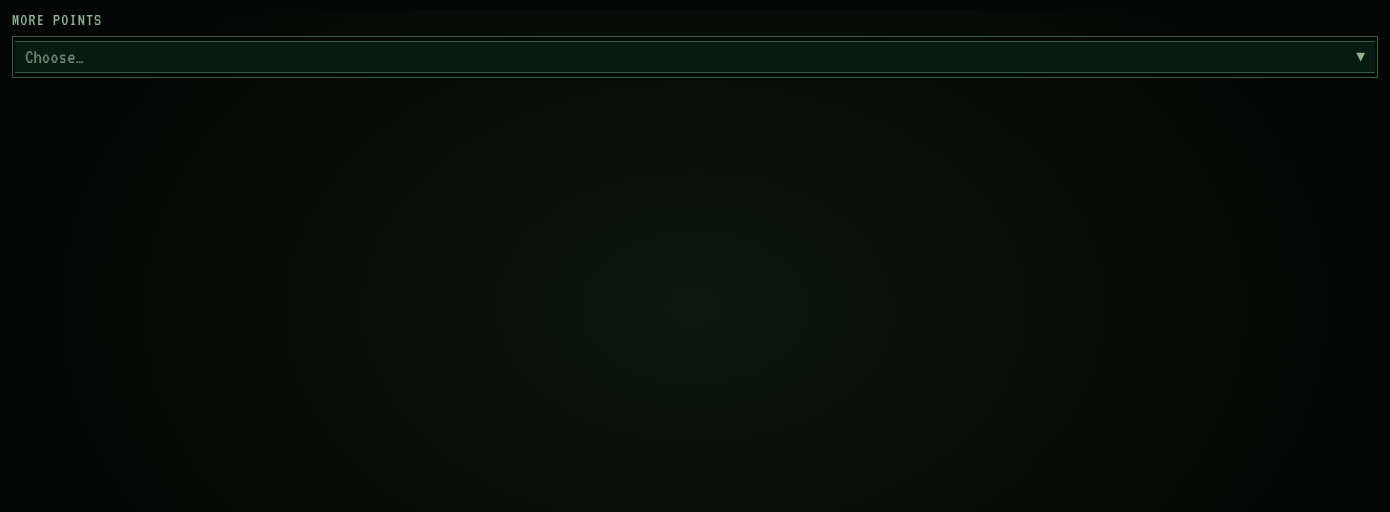
it: WheelSelect › opens on click and chooses an option
The width and height of the screenshot is (1390, 512).
Click the dropdown labelled "Choose… ▼".
click(54, 57)  # box [15, 41, 1375, 73]
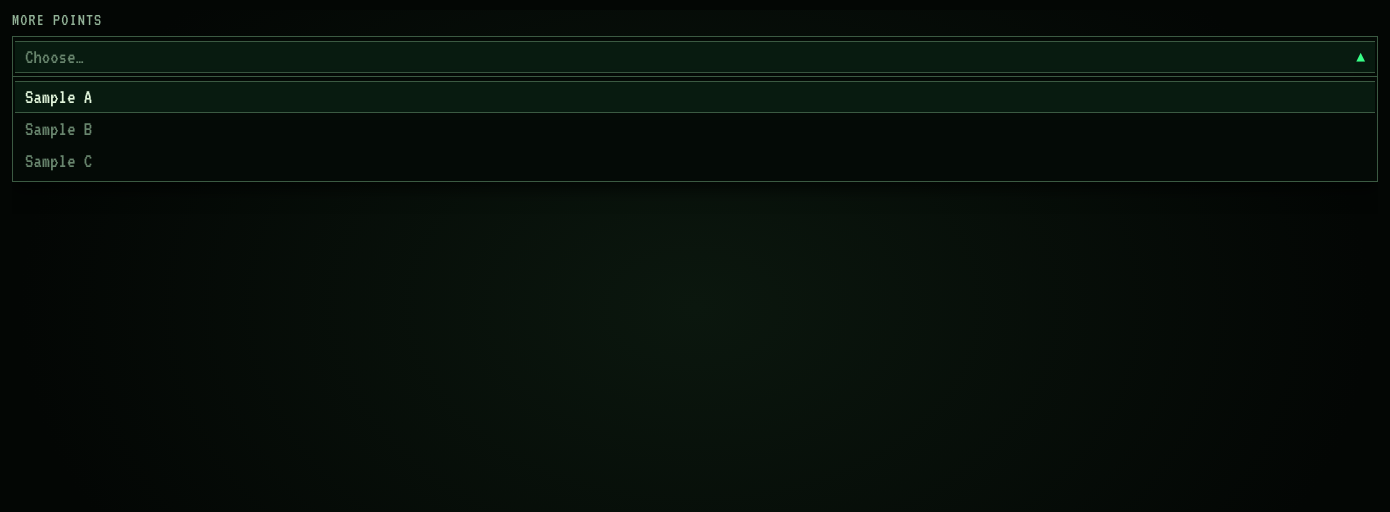
Click the option "Sample C".
click(59, 161)  # box [25, 150, 92, 171]
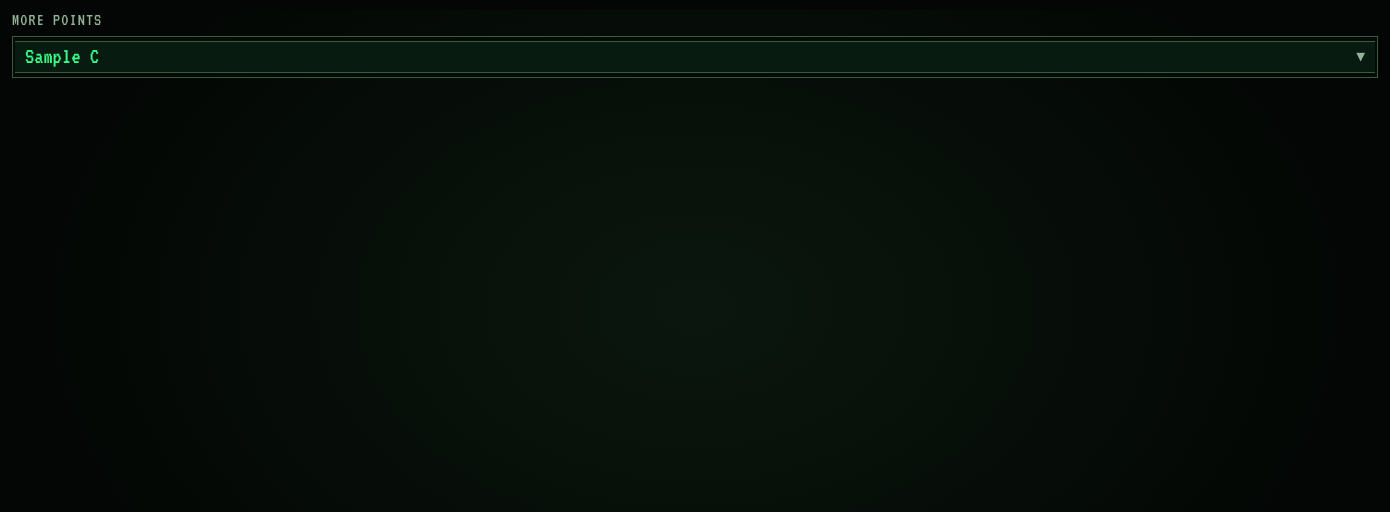
Expected: the dropdown labelled "Sample C ▼" is shown, [15, 41, 1375, 73]
